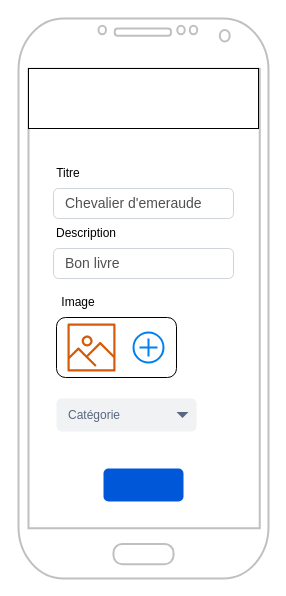
This 286x596 diagram has some shape labels left out. Here are the shapes that lost their labels. From the top down, the centre of each, then its label:
At (x=143, y=98): "Barre de navigation".
At (x=143, y=484): "Publier".
